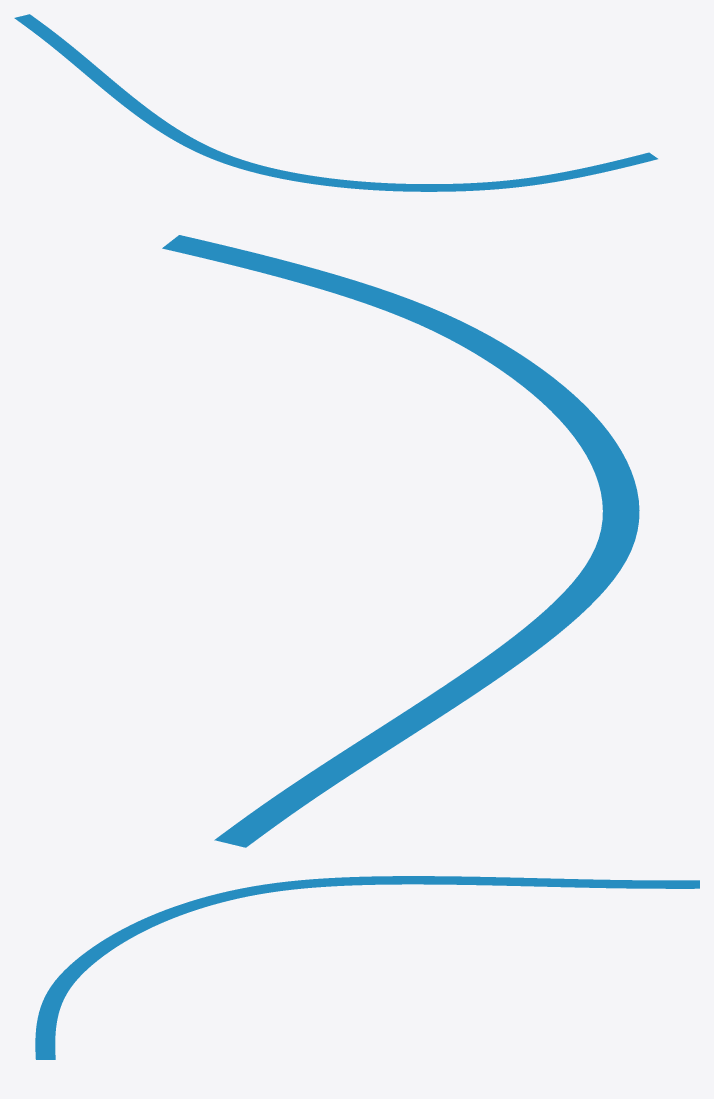
File: guide.glb
3 renders of one model, top to bottom at view 1: azimuth 30°, elevation 25°; view 2: azimuth 150°, elevation 25°; view 3: azimuth 270°, elevation 25°, orthographic. The views are drawn at different scales.
Visible parts, largest first — view 1: static; view 2: static; view 3: static.
Boxes of the visible parts, x1,y1,x2,y2 form: static: (14, 14, 657, 191); static: (162, 235, 639, 847); static: (35, 876, 699, 1059).
Bounding box in the file's own units: 7.95 × 0 × 11.04.
